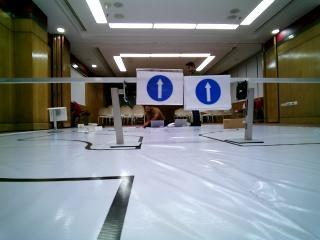straight: (183, 76, 232, 111), (139, 69, 182, 105)
